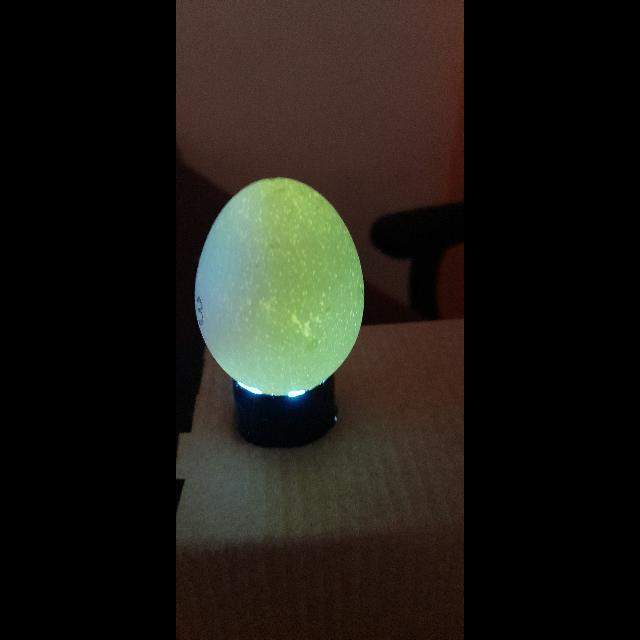AA - Premium: (199, 175, 365, 395)
